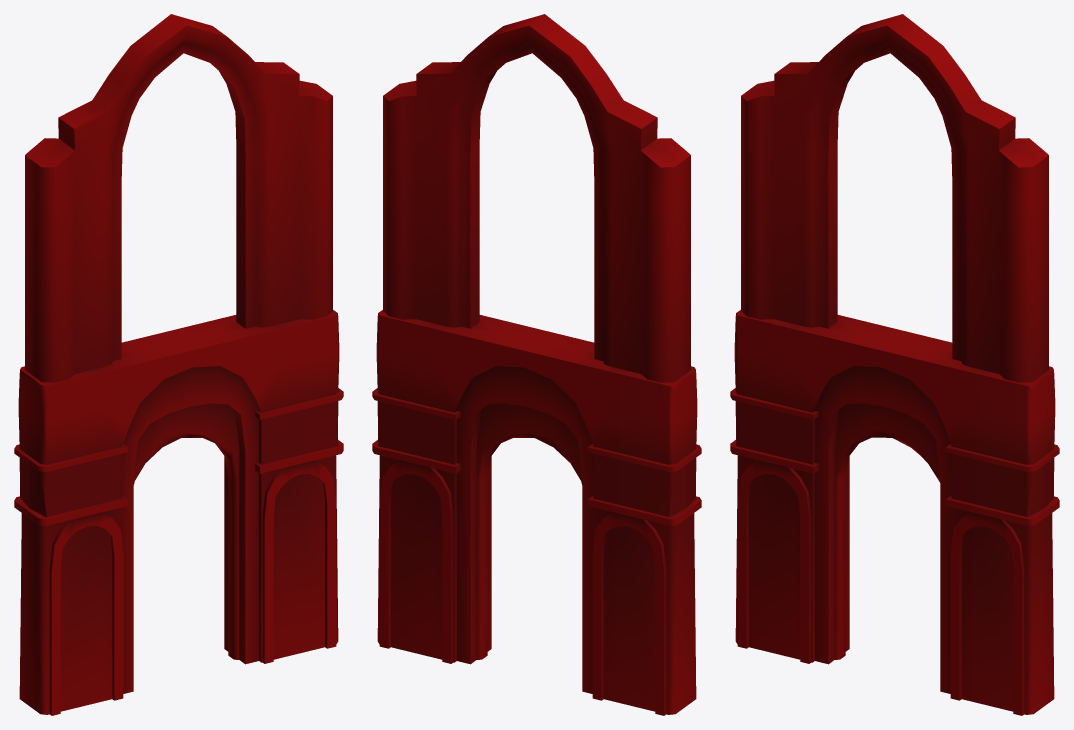
File: buildings-ruins-cathedralruins_v9.fbx
The picture shows the model from 3 angles, left to right: view 1: azimuth 30°, elevation 25°; view 2: azimuth 150°, elevation 25°; view 3: azimuth 330°, elevation 25°; orthographic projection.
Visible parts, largest first — view 1: CathedralRuins_v9; view 2: CathedralRuins_v9; view 3: CathedralRuins_v9.
Part boxes in pixels (left/top/right/bottom): CathedralRuins_v9: left=14, top=14, right=343, bottom=715; CathedralRuins_v9: left=372, top=14, right=701, bottom=715; CathedralRuins_v9: left=730, top=14, right=1059, bottom=715.
Bounding box in the file's own units: 11.13 × 22.67 × 1.9.
